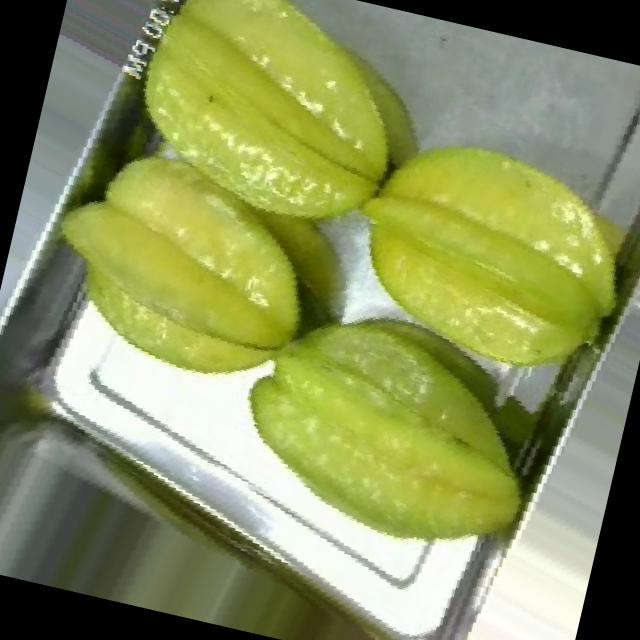fruit: (180, 233, 596, 622), (9, 28, 397, 435), (299, 81, 640, 427)
